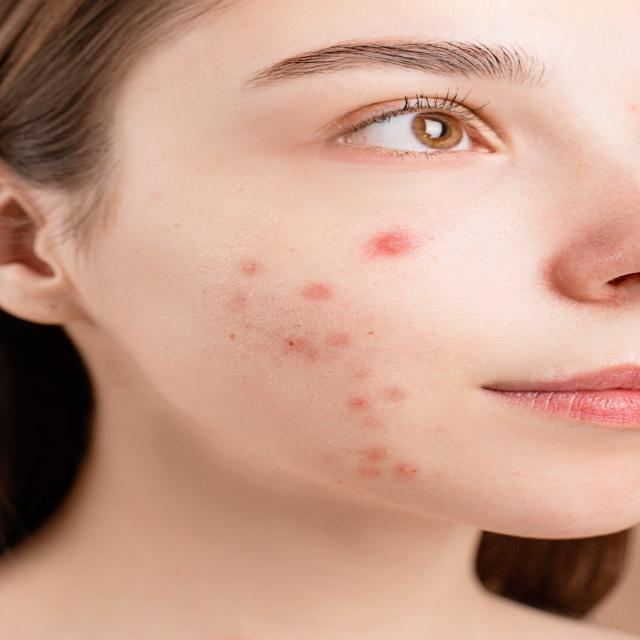Acne: (223, 222, 437, 502)
